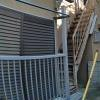stairs: (54, 10, 91, 95)
